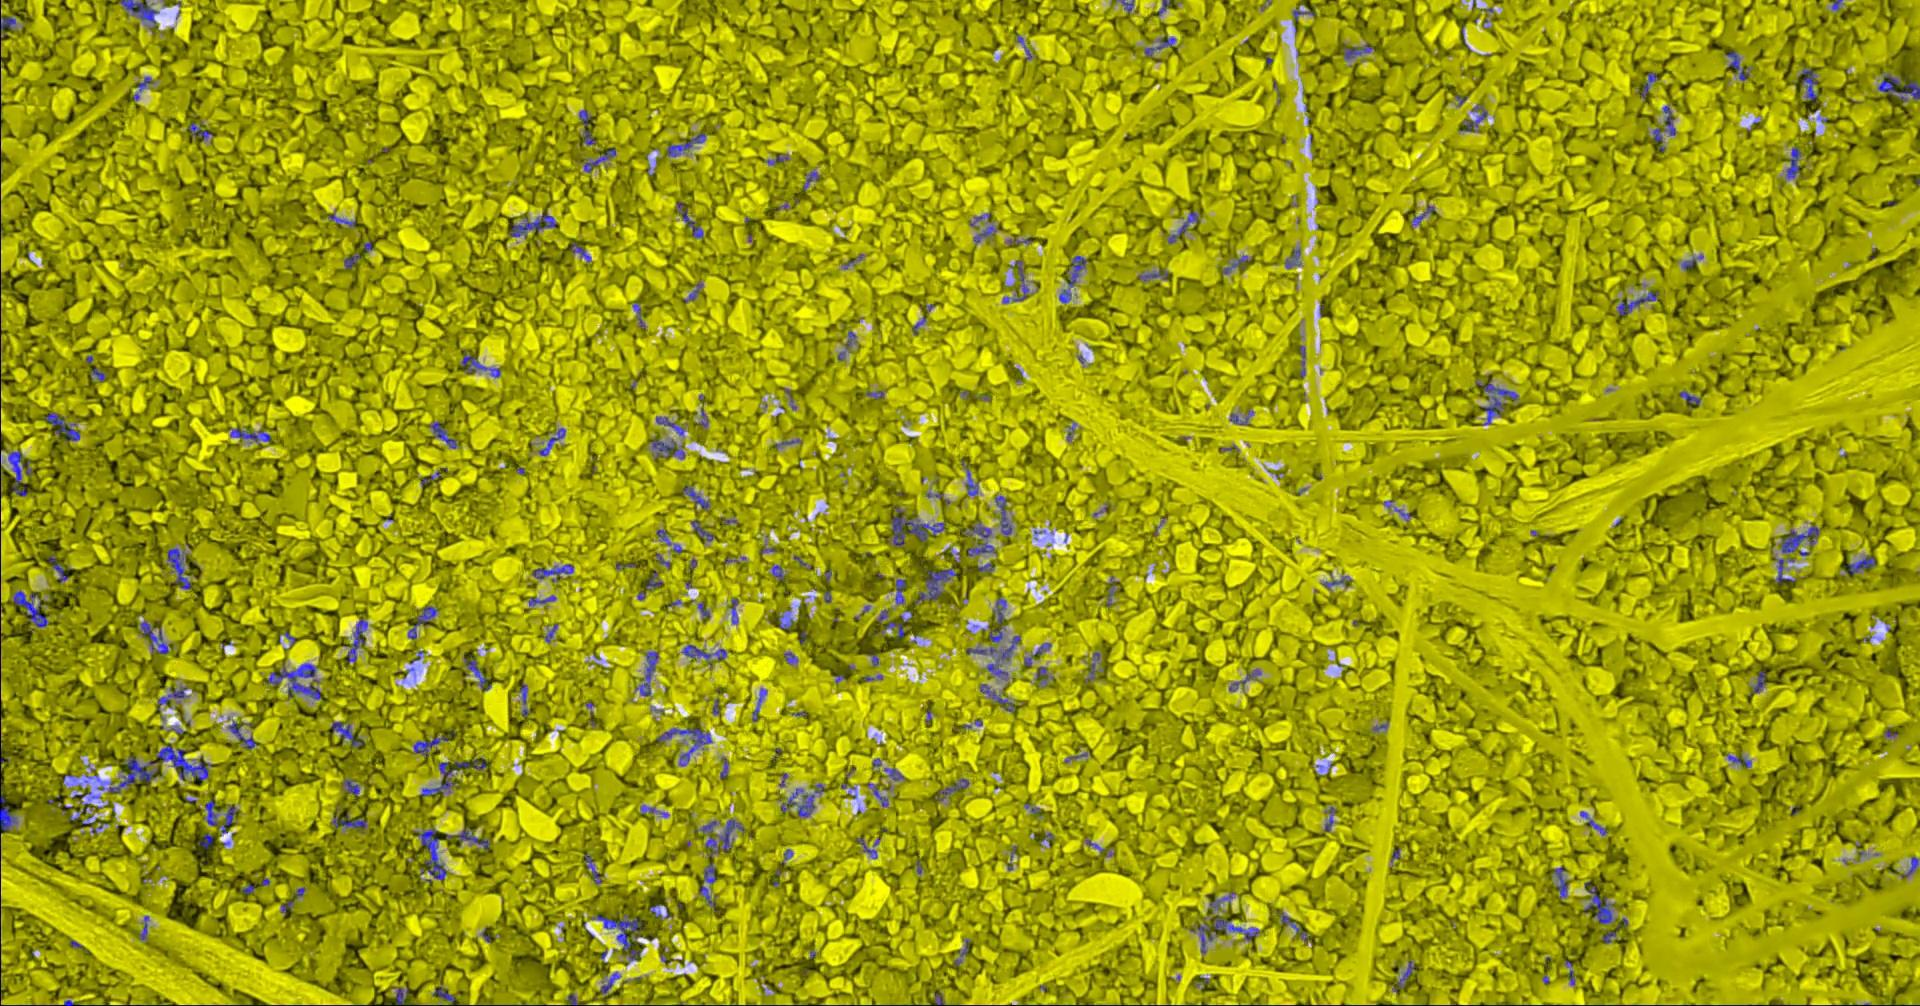ant: (420, 757, 488, 795), (594, 915, 643, 960), (655, 727, 711, 765), (891, 506, 945, 545), (1197, 917, 1258, 951), (1476, 379, 1517, 424), (267, 663, 320, 699), (156, 746, 211, 780), (109, 754, 157, 793), (414, 828, 446, 880), (913, 567, 957, 603), (13, 589, 46, 626), (1583, 882, 1611, 923), (1877, 75, 1919, 102), (1002, 260, 1029, 302), (1779, 525, 1818, 553), (509, 213, 556, 236), (8, 450, 30, 495), (119, 0, 157, 27), (461, 351, 499, 377), (44, 412, 79, 441), (1653, 105, 1675, 151), (635, 652, 658, 695), (676, 201, 702, 238), (1617, 291, 1657, 315), (1168, 211, 1199, 243), (979, 683, 1013, 711), (665, 132, 705, 156), (168, 547, 190, 588), (408, 606, 437, 638), (140, 621, 168, 654), (345, 619, 367, 661), (463, 657, 490, 690), (330, 721, 364, 747), (682, 644, 726, 663), (695, 821, 717, 857), (229, 720, 257, 749), (429, 420, 456, 448), (538, 427, 565, 455), (1280, 912, 1307, 940), (988, 597, 1004, 641), (0, 789, 17, 833), (583, 149, 615, 171), (720, 819, 743, 851), (230, 427, 270, 445), (935, 779, 968, 800), (157, 686, 185, 711), (1726, 50, 1749, 80), (413, 735, 448, 754), (637, 572, 662, 600), (532, 564, 573, 580), (1229, 669, 1260, 691), (1393, 960, 1415, 991), (455, 829, 489, 848), (281, 887, 303, 915), (1065, 255, 1087, 285), (651, 439, 684, 459), (994, 495, 1011, 533), (657, 528, 682, 553), (578, 109, 596, 144), (682, 485, 709, 508), (331, 814, 366, 832), (583, 854, 603, 883), (1799, 69, 1817, 102), (1144, 36, 1175, 55), (1459, 111, 1487, 131), (218, 805, 237, 835), (997, 635, 1020, 659), (1637, 72, 1658, 98), (48, 555, 69, 582), (1845, 555, 1876, 573), (780, 788, 803, 810), (750, 688, 766, 721), (655, 417, 683, 434), (855, 837, 879, 857), (690, 520, 712, 540), (966, 539, 994, 555), (1777, 559, 1796, 583), (188, 122, 213, 140), (1785, 147, 1801, 177), (599, 970, 618, 993), (1343, 44, 1373, 58), (1553, 868, 1567, 897), (1413, 205, 1434, 224), (1900, 856, 1919, 876), (569, 243, 590, 260), (973, 226, 996, 243), (985, 663, 1007, 680), (797, 794, 814, 815), (1677, 391, 1700, 406), (965, 465, 977, 495), (432, 986, 455, 1001), (1322, 575, 1351, 587), (1681, 254, 1703, 269), (872, 785, 888, 807), (204, 800, 217, 826), (803, 171, 819, 191), (884, 621, 904, 636), (1727, 754, 1751, 767), (1285, 248, 1300, 267), (1752, 669, 1765, 692), (528, 594, 555, 605), (1138, 271, 1167, 279), (0, 15, 15, 32), (344, 779, 359, 795), (394, 987, 408, 1005), (895, 579, 905, 603), (965, 647, 996, 654), (883, 767, 903, 779), (1324, 807, 1335, 829), (197, 833, 212, 848), (703, 862, 715, 883), (971, 526, 990, 537), (344, 254, 359, 268), (1298, 345, 1304, 379), (771, 565, 783, 579), (731, 597, 738, 622), (1036, 666, 1048, 680), (1059, 290, 1070, 302)
